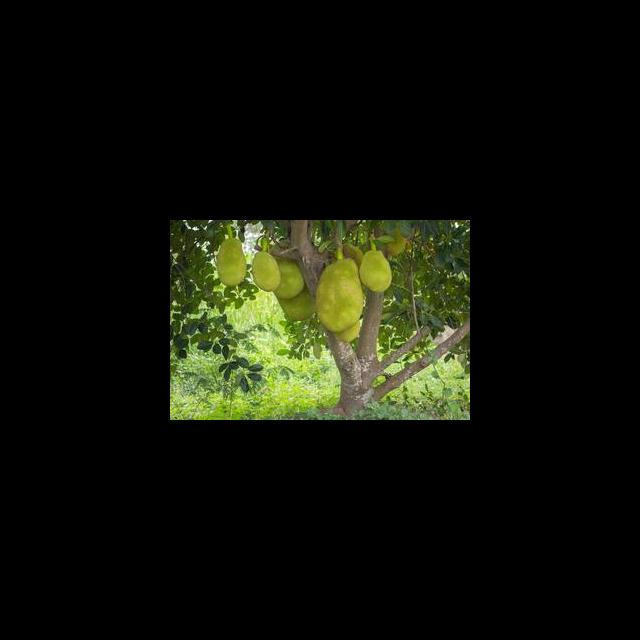mit: (315, 257, 365, 331), (215, 237, 253, 288), (359, 250, 393, 292), (250, 252, 283, 291), (277, 260, 304, 301), (326, 329, 365, 341)
